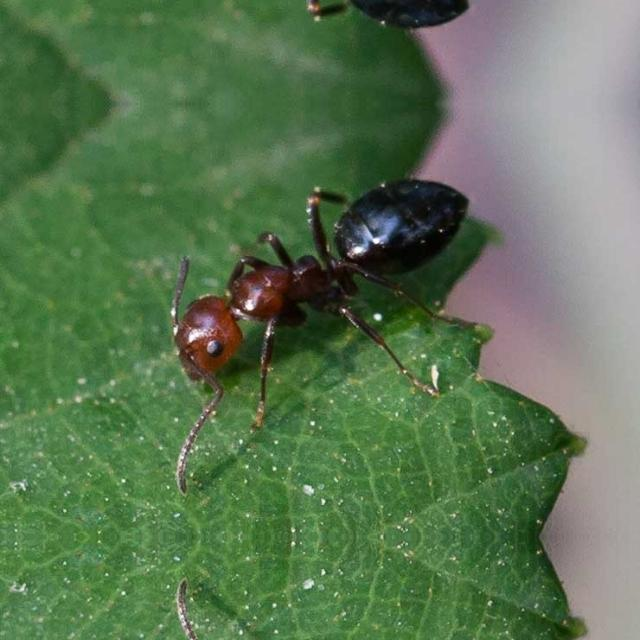Camponotus: (132, 166, 488, 390)
